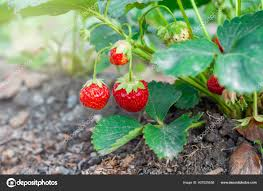ripe: (111, 74, 148, 115), (79, 77, 110, 112), (105, 41, 136, 72), (204, 72, 228, 94)
unripe: (157, 22, 179, 52), (170, 22, 191, 46)
